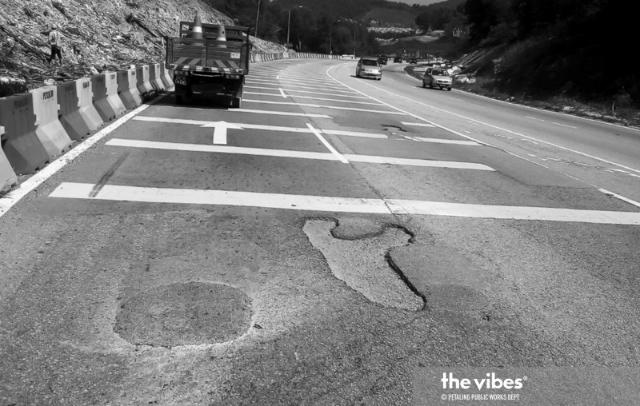Pothole: (299, 215, 426, 316)
